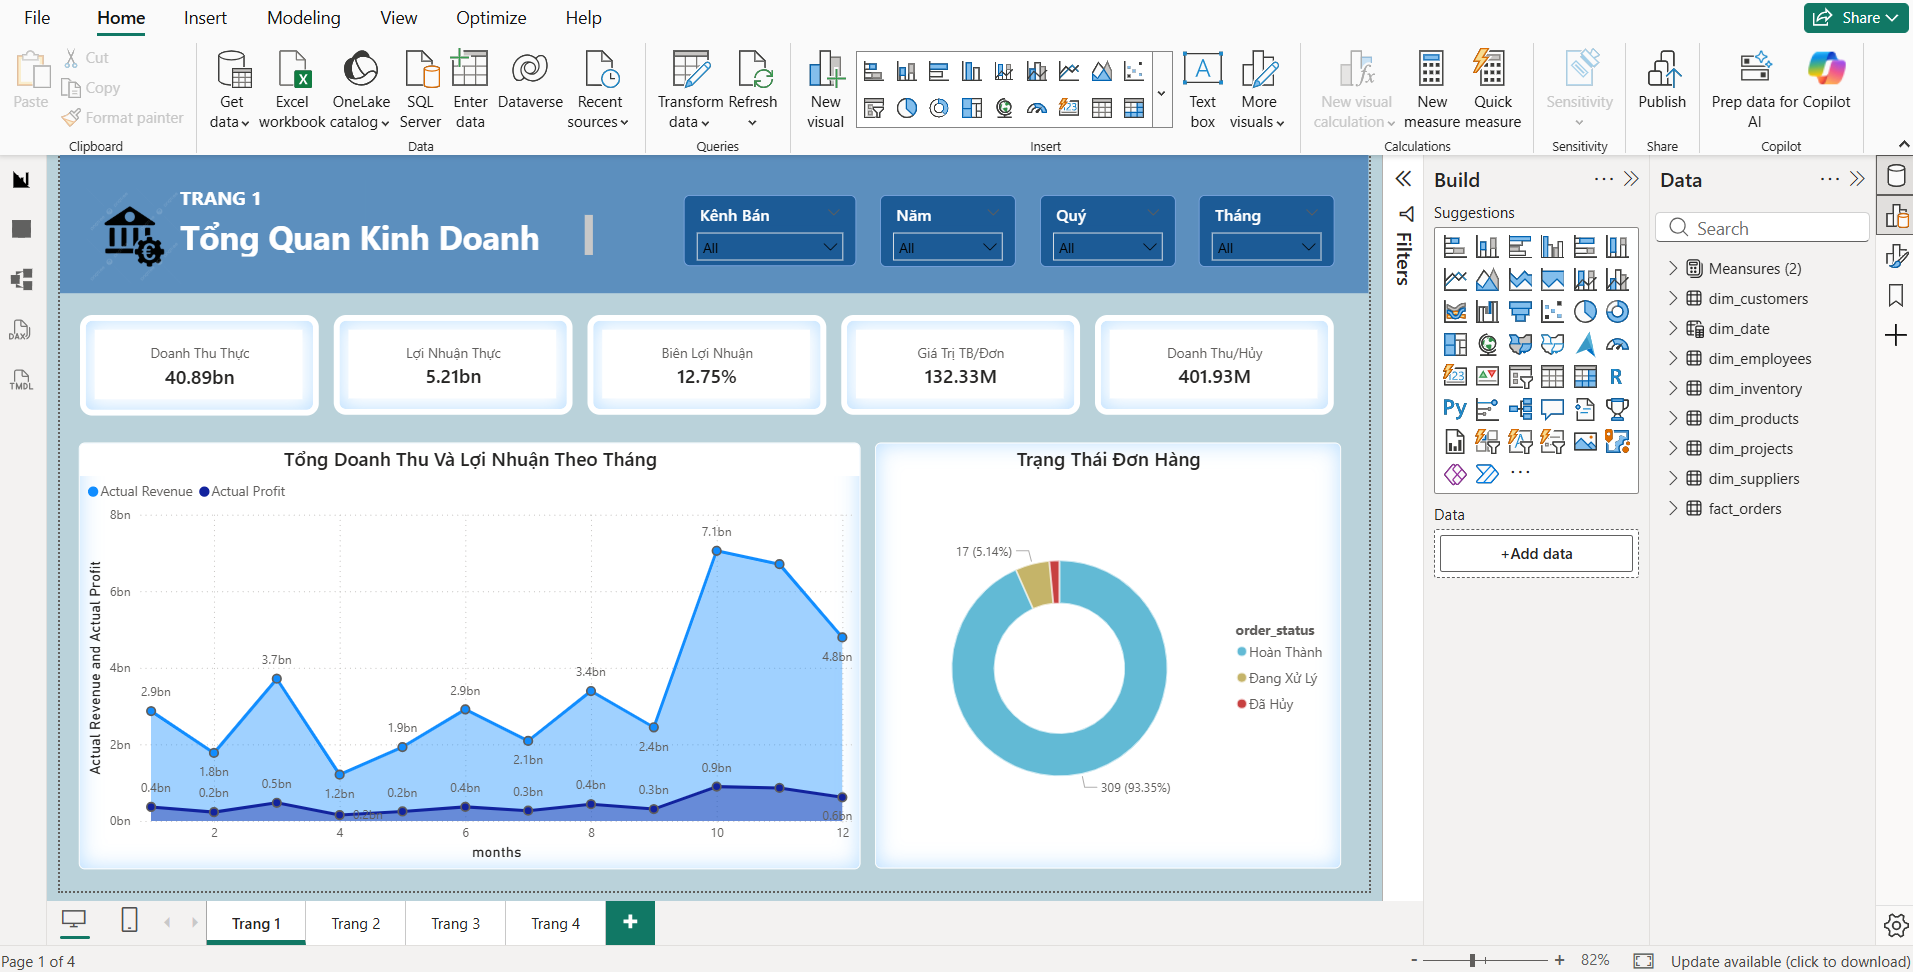

The page's visual inventory and layout, read from the dashboard file:
{"tool":"powerbi","page":{"name":"Trang 1","canvas":[1280,720],"ordinal":0},"visuals":[{"type":"cardVisual","fields":{"Data":["Meansures (2).Actual Revenue"]},"box":[20,156.2,233.8,98.8],"z":0},{"type":"cardVisual","fields":{"Data":["Meansures (2).Actual Profit"]},"box":[268.1,156.2,233.8,97.5],"z":1000},{"type":"cardVisual","fields":{"Data":["Meansures (2).Average Orders"]},"box":[764.4,156.2,233.8,97.5],"z":1500},{"type":"cardVisual","fields":{"Data":["Meansures (2).Gross Profit"]},"box":[516.2,156.2,233.8,97.5],"z":2000},{"type":"cardVisual","fields":{"Data":["Meansures (2).Cancel Total"]},"box":[1012.5,156.2,233.8,97.5],"z":4000},{"type":"lineChart","title":"Tổng Doanh Thu Và Lợi Nhuận Theo Tháng","fields":{"Category":["dim_date.months"],"Y":["Meansures (2).Actual Revenue","Meansures (2).Actual Profit"]},"box":[18.8,281.2,765,417.5],"z":5000},{"type":"donutChart","title":"Trạng Thái Đơn Hàng","fields":{"Category":["fact_orders.order_status"],"Y":["CountNonNull(fact_orders.order_id)"]},"box":[797.8,281.3,455.9,417],"z":6000},{"type":"textbox","box":[0,0,1280.3,135],"z":7000},{"type":"textbox","box":[112.5,53.4,414.1,50.5],"z":8000},{"type":"textbox","box":[112.5,24.5,186.1,40.4],"z":9000},{"type":"image","box":[20.2,30.3,103.9,98.1],"z":10000},{"type":"slicer","title":"Kênh bán ","fields":{"Values":["fact_orders.sales_channel"]},"box":[610.2,39.1,168.8,69.7],"z":11000},{"type":"slicer","title":"Kênh bán ","fields":{"Values":["dim_date.years"]},"box":[802.2,39.1,132.7,70.7],"z":12000},{"type":"slicer","title":"Kênh bán ","fields":{"Values":["dim_date.months"]},"box":[1114.3,39.1,132.7,70.7],"z":13000},{"type":"slicer","title":"Kênh bán ","fields":{"Values":["dim_date.quaters"]},"box":[958.3,39.1,132.7,70.7],"z":14000}]}

Visuals, with their boxes on the page's 1280x720 design canvas (x1, y1, x2, y2). These are canvas units, not pixel positions in the 1913x972 screenshot, which may show the page scaled, cropped or inside an application window:
cardVisual - Meansures (2).Actual Revenue: 20:156:254:255
cardVisual - Meansures (2).Actual Profit: 268:156:502:254
cardVisual - Meansures (2).Average Orders: 764:156:998:254
cardVisual - Meansures (2).Gross Profit: 516:156:750:254
cardVisual - Meansures (2).Cancel Total: 1012:156:1246:254
"Tổng Doanh Thu Và Lợi Nhuận Theo Tháng" lineChart: 19:281:784:699
"Trạng Thái Đơn Hàng" donutChart: 798:281:1254:698
textbox: 0:0:1280:135
textbox: 112:53:527:104
textbox: 112:24:299:65
image: 20:30:124:128
"Kênh bán " slicer: 610:39:779:109
"Kênh bán " slicer: 802:39:935:110
"Kênh bán " slicer: 1114:39:1247:110
"Kênh bán " slicer: 958:39:1091:110
